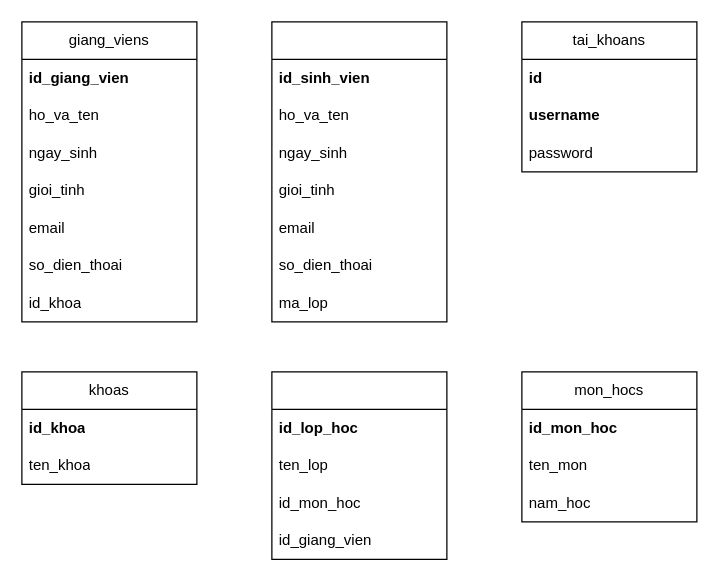
Image size: 719x581. Some labels were removed from this diagram. The box of each missing label's shape, as (x1, y1, x2, y2) in pixels:
lop_hocs: (271, 371, 447, 559)
sinh_viens: (271, 21, 447, 322)
